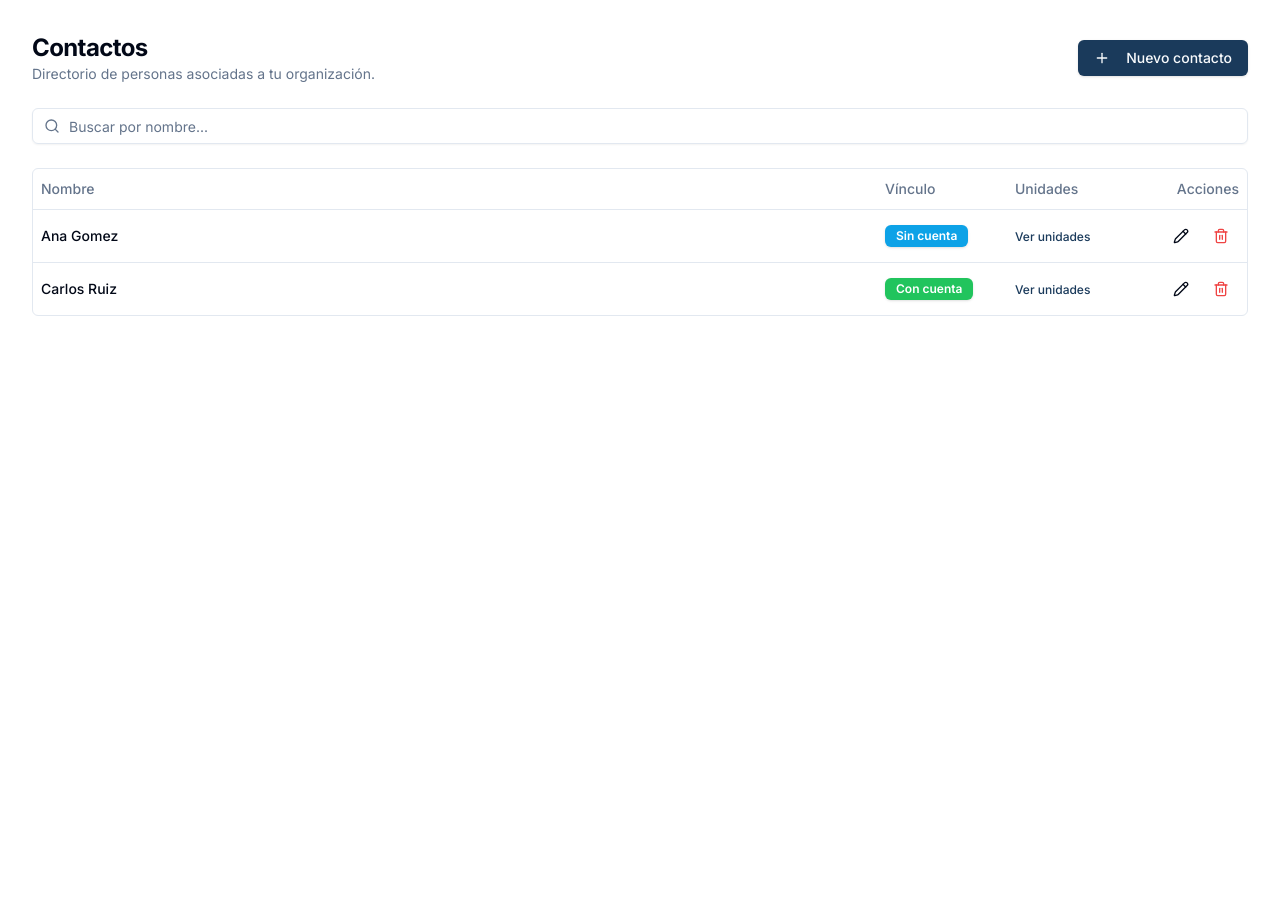
Test: ContactosPage › muestra el warning contextual cuando el delete falla con 409 CONTACT_HAS_OCCUPATIONS
Click the button titled "Eliminar" in the row of "Ana Gomez": coordinates (1221, 236) [1203, 218, 1239, 254]
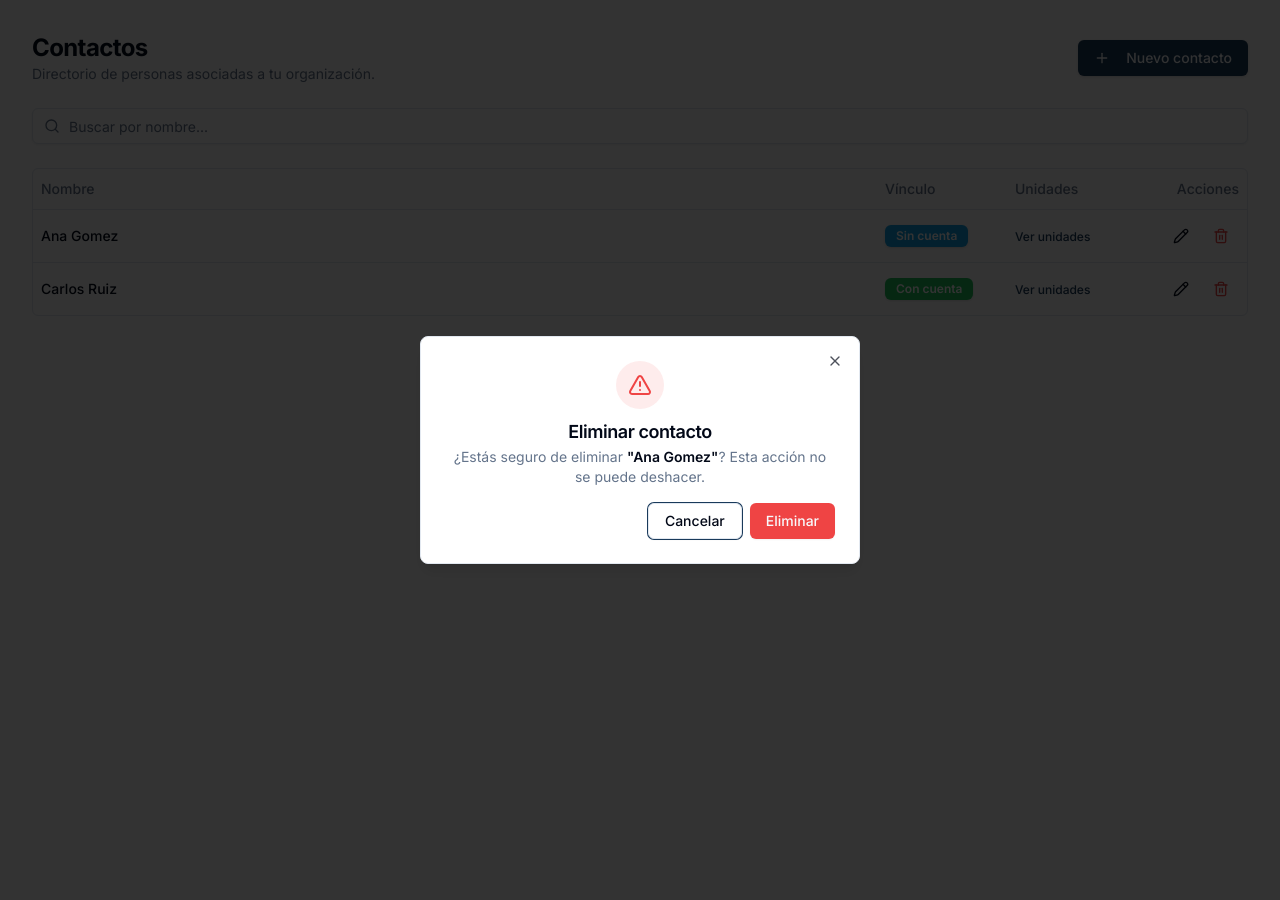
Click the button "Eliminar": coordinates (792, 521) [750, 503, 835, 539]
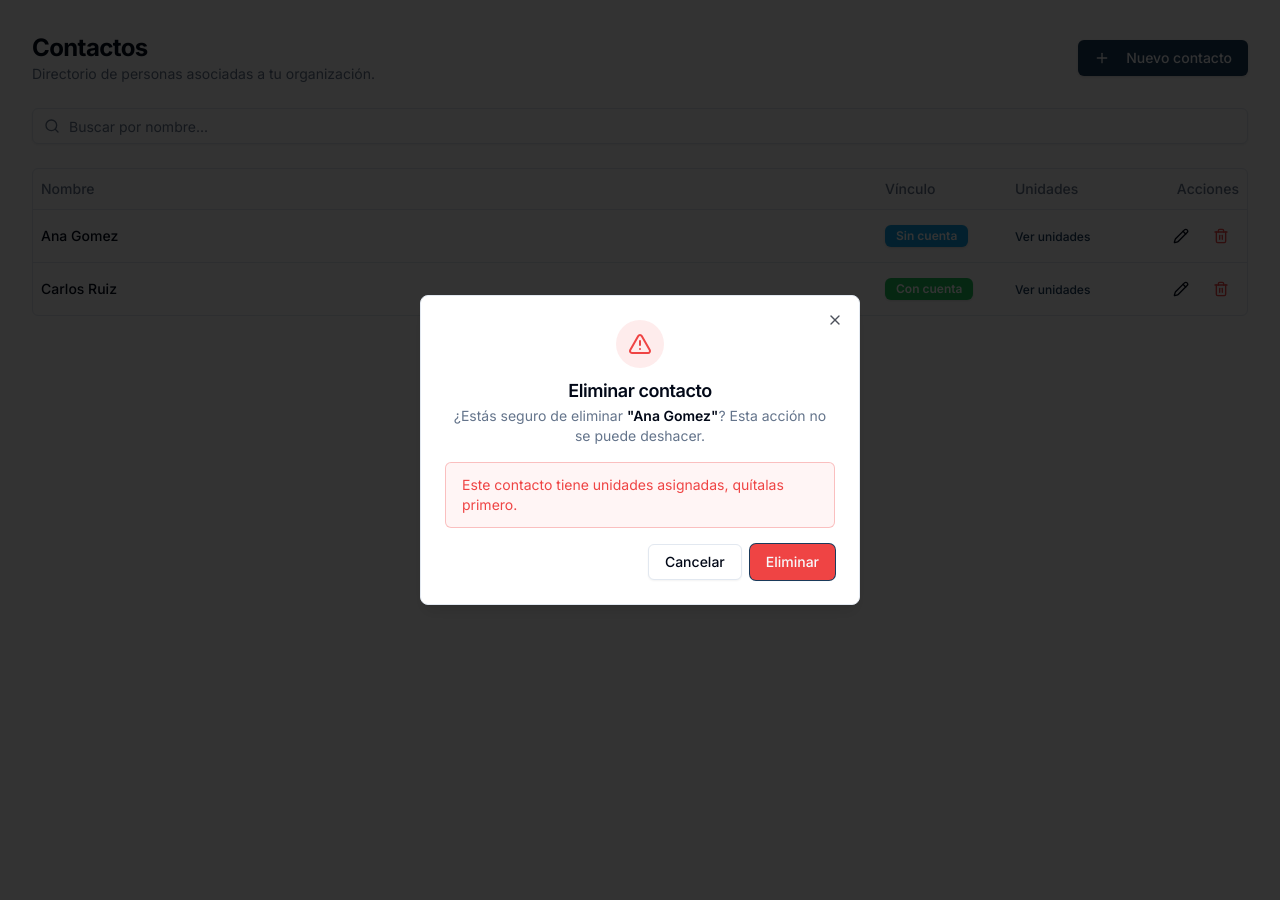
Expected: the text "¿Estás seguro de eliminar" is shown, [454, 407, 623, 424]
Expected: the text "Este contacto tiene unidades asignadas, quítalas primero." is shown, [445, 462, 835, 528]
